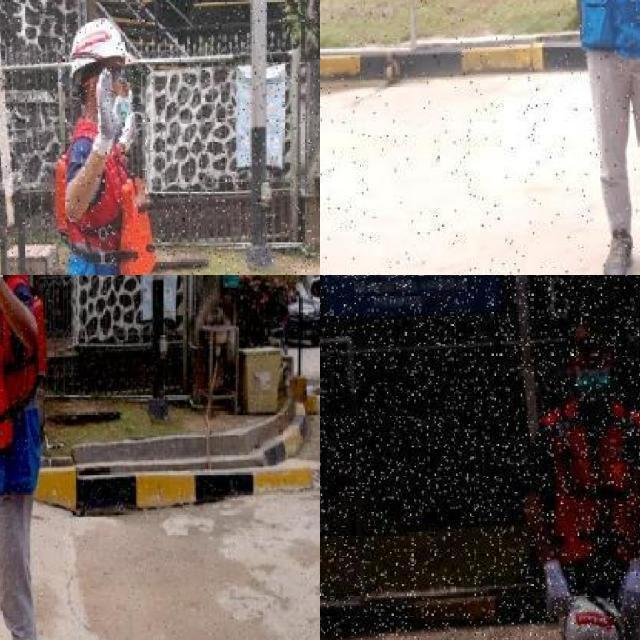apron: (94, 67, 116, 163), (544, 560, 570, 622), (619, 560, 640, 621), (123, 94, 137, 153)
